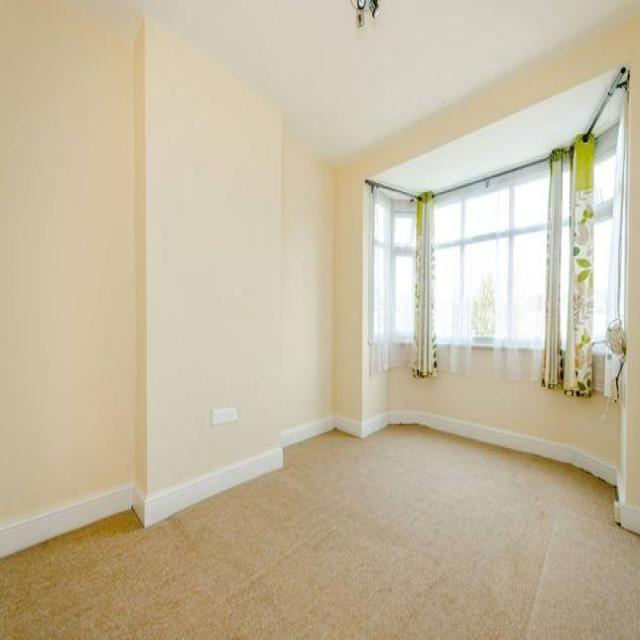Wall: (0, 2, 334, 554), (334, 9, 640, 530), (0, 426, 640, 639), (67, 0, 640, 164), (386, 349, 620, 483)
